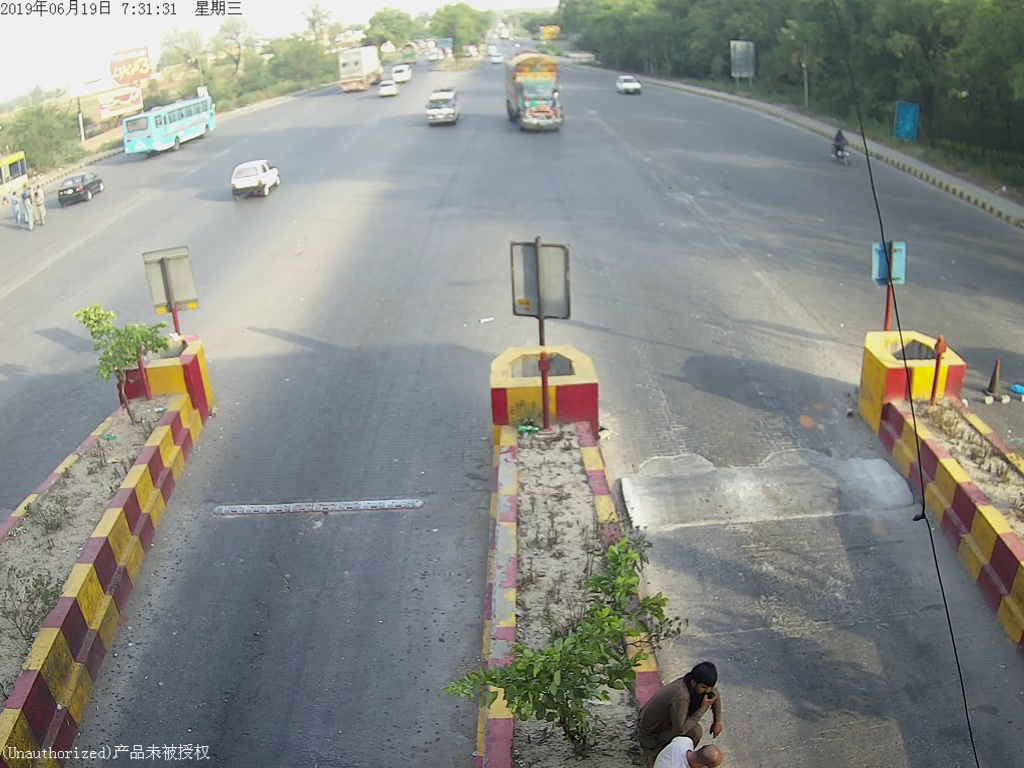Cat-2: (415, 81, 463, 129)
Cat-4: (498, 51, 571, 137)
